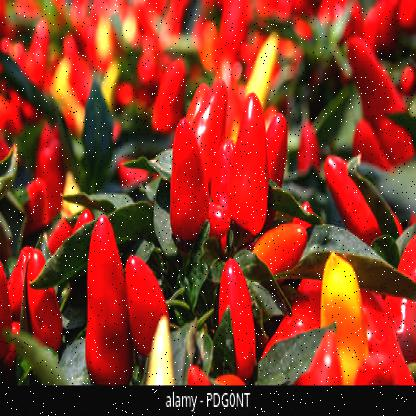chili: (84, 213, 137, 391), (206, 92, 238, 354), (166, 115, 213, 260)
